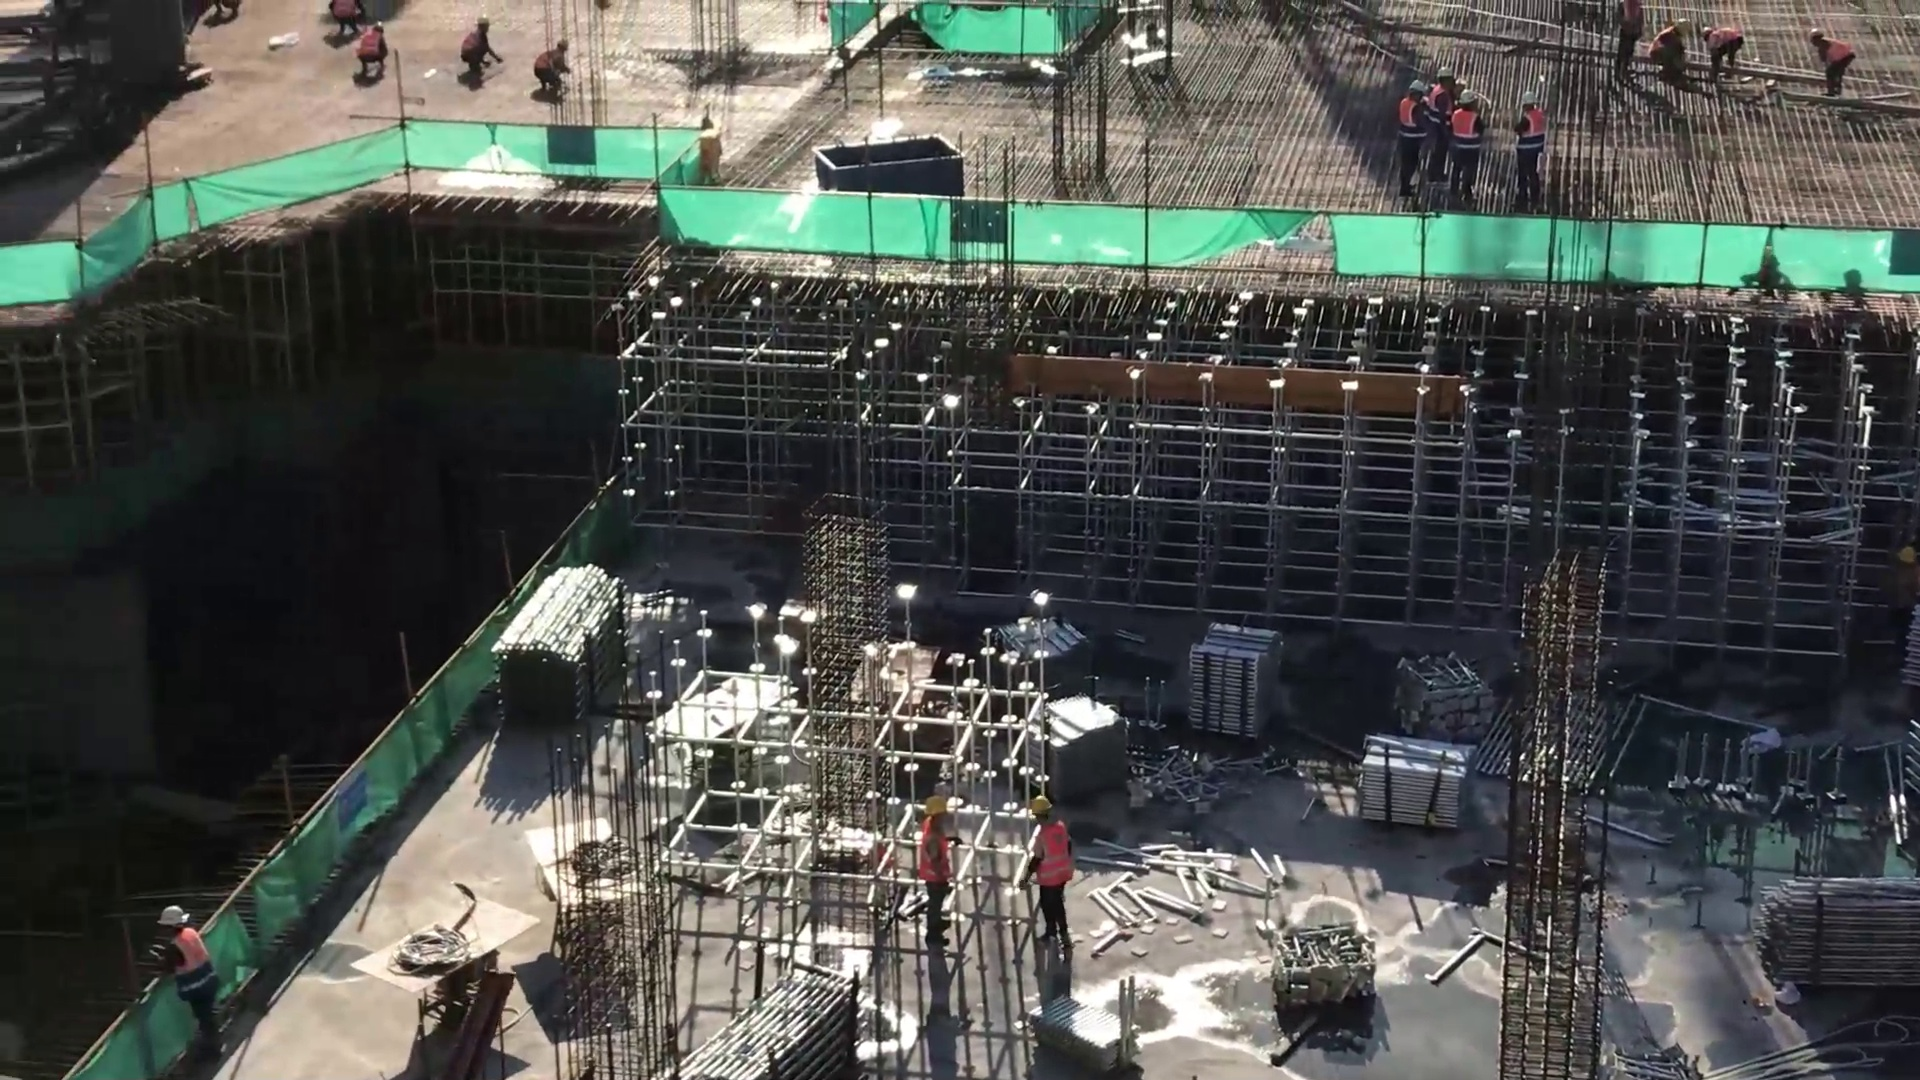helmet: (924, 793, 949, 813), (1029, 794, 1050, 809), (1407, 79, 1426, 92), (1459, 89, 1477, 101), (1436, 67, 1453, 79), (1522, 92, 1538, 100)
person: (142, 907, 227, 1059), (1017, 793, 1077, 954), (915, 793, 965, 946), (1393, 80, 1431, 193), (1509, 88, 1547, 201), (1425, 56, 1456, 187), (1805, 29, 1854, 99), (1450, 92, 1483, 195), (461, 11, 504, 79), (1698, 19, 1742, 83), (1658, 7, 1689, 89), (1616, 1, 1644, 83), (354, 20, 392, 79), (535, 42, 574, 96), (329, 1, 366, 46)
vest: (160, 933, 220, 1003), (1029, 824, 1074, 886), (919, 822, 954, 886)
